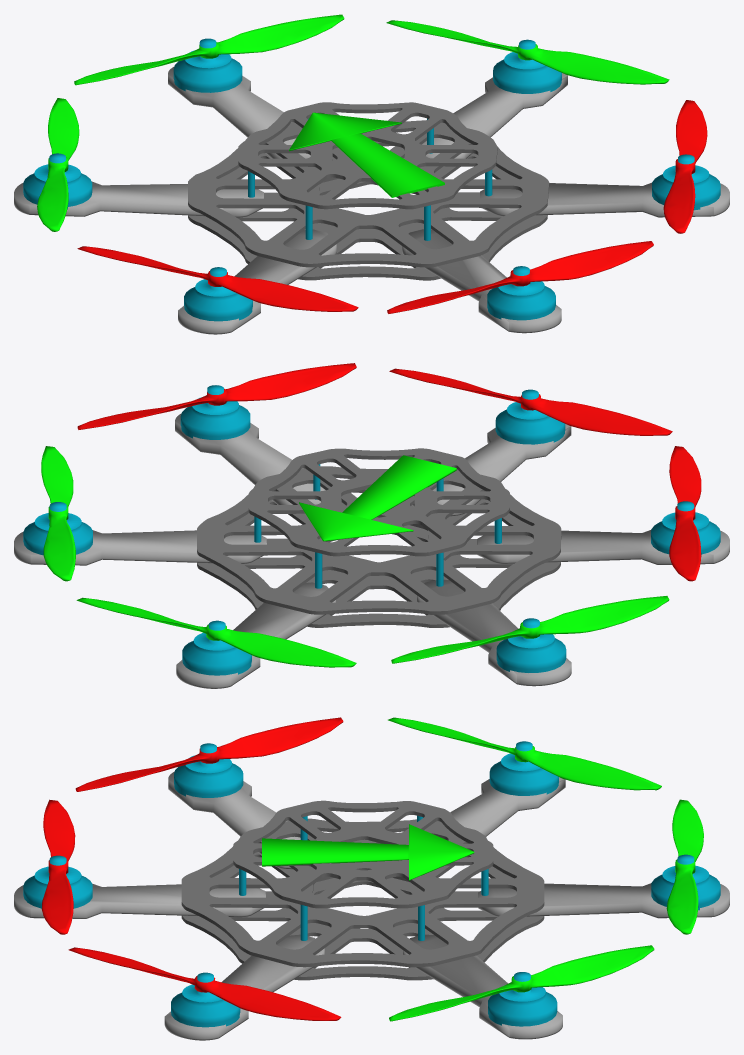
The model's file is hex_plus.gltf.
3 renders of one model, top to bottom at view 1: azimuth 30°, elevation 25°; view 2: azimuth 150°, elevation 25°; view 3: azimuth 270°, elevation 25°, orthographic.
Size of the model in its own units: 8.59 by 0.744 by 8.56.
